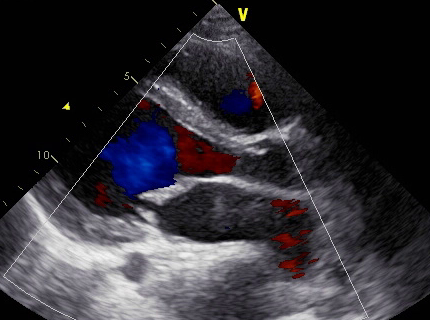AR: (163, 121, 245, 185)
